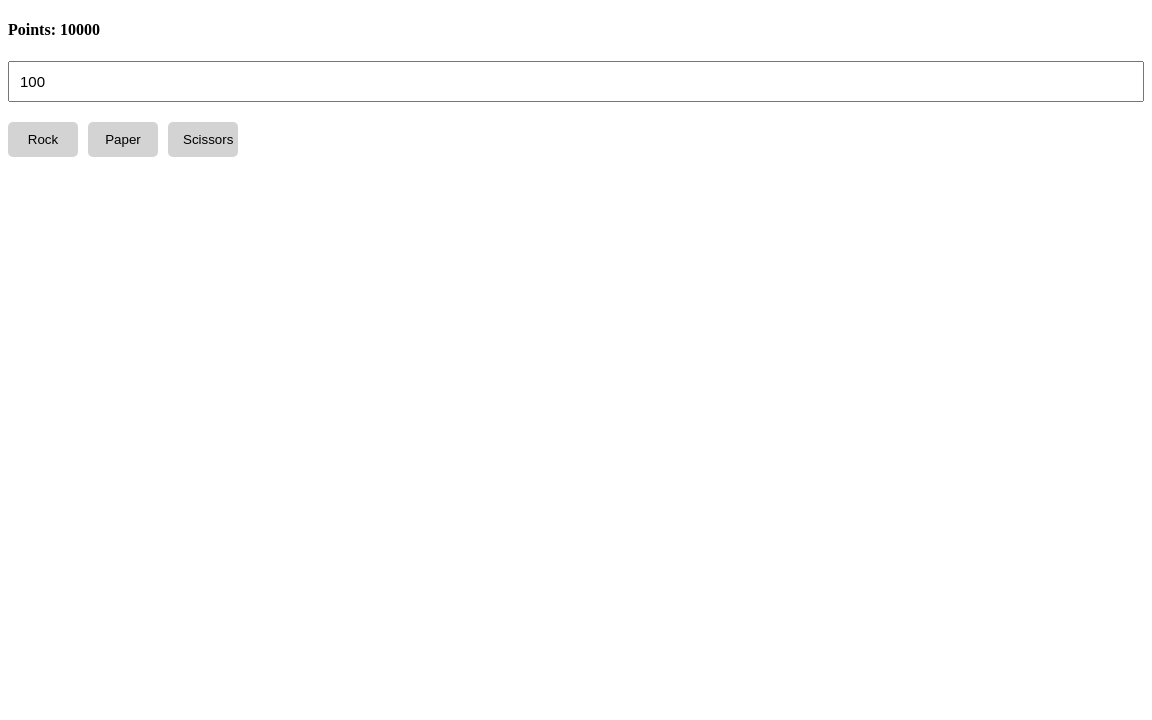
it: Rock-Paper-Scissors Component › displays correct game-result-message when player wins/draws/loses with Paper
Replace the text in the number field with test id "Bet-Amount" with "1700" at (576, 81), box top-left (8, 60), bottom-right (1144, 102)
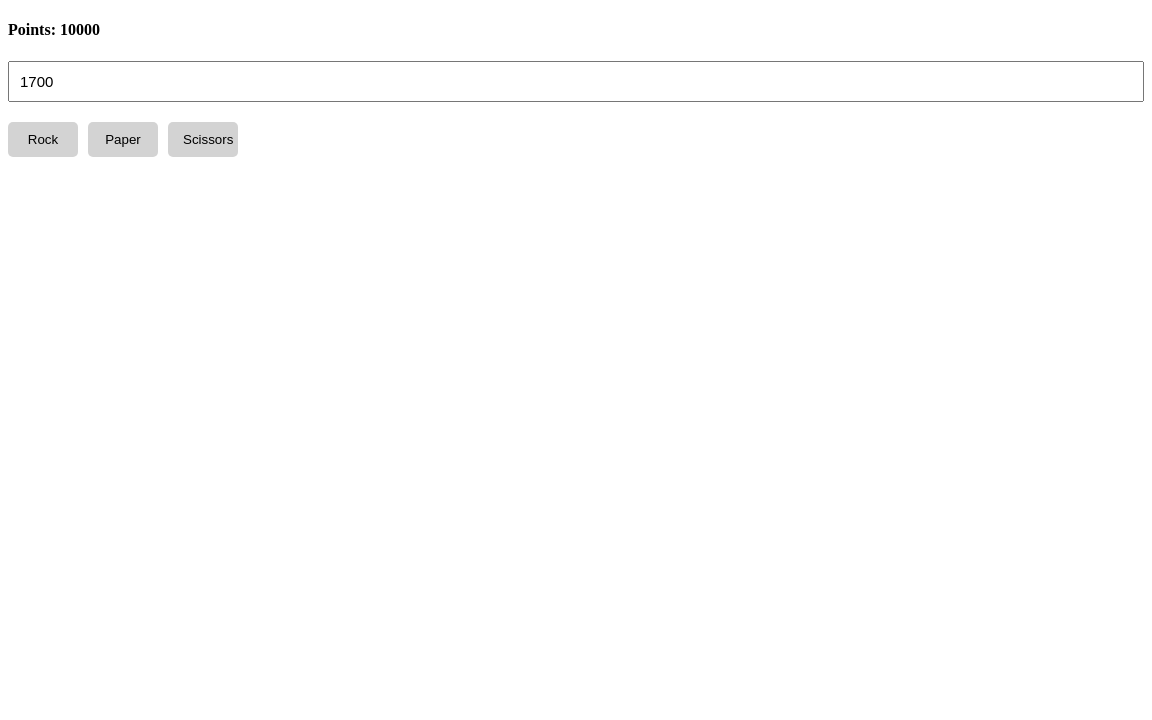
Click the button "Paper" at (123, 139), box top-left (88, 122), bottom-right (158, 156)
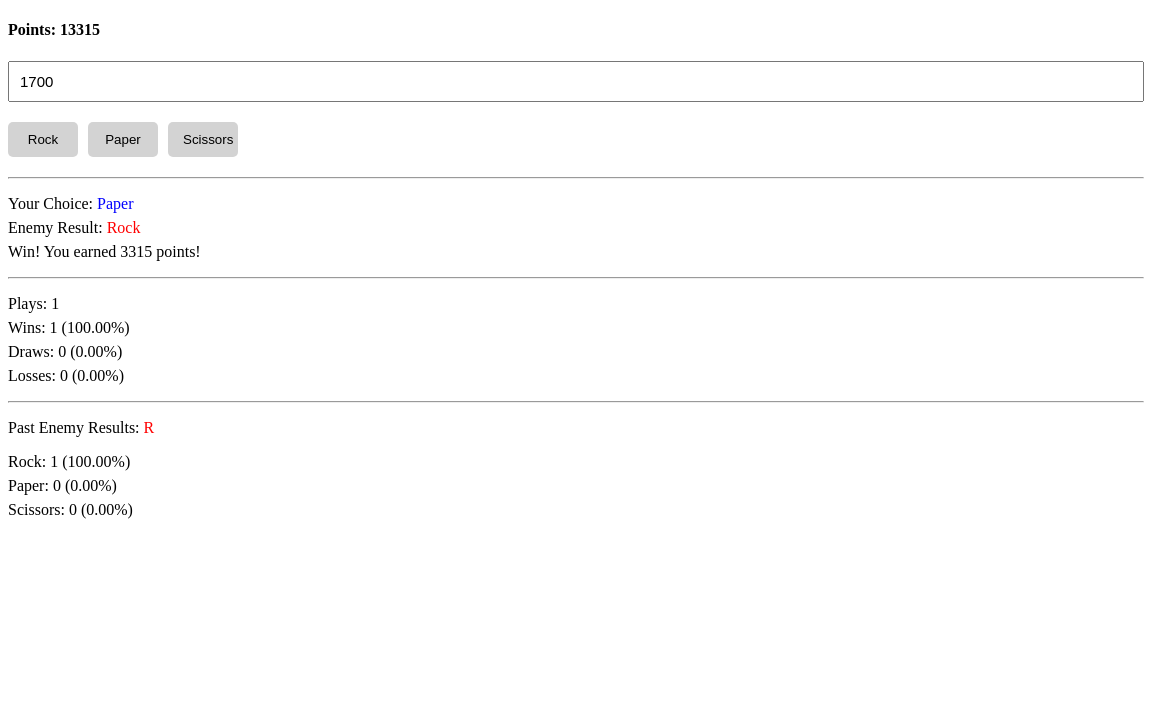
Now the text "Win! You earned 3315 points!" is shown, box top-left (8, 242), bottom-right (201, 260)
